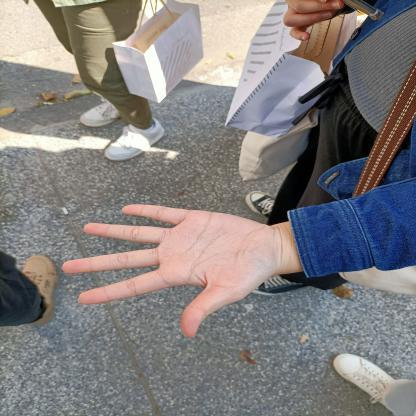bare_hand: (57, 191, 290, 350)
